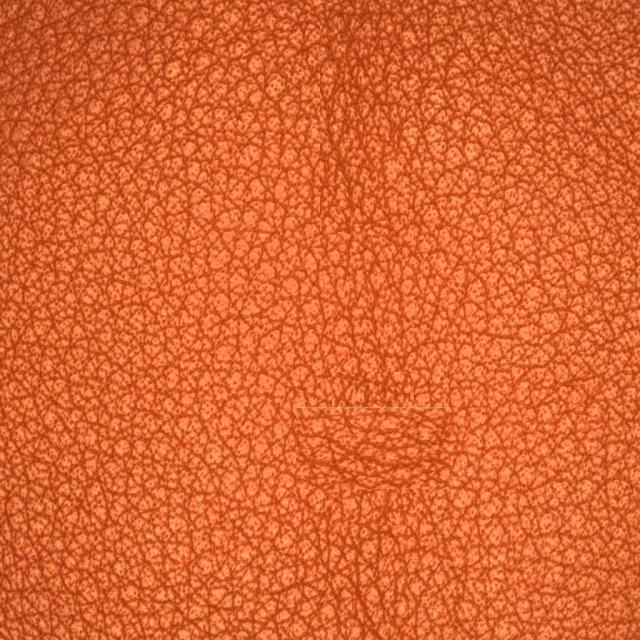Healed Injury: (315, 50, 429, 223), (302, 394, 477, 504)
